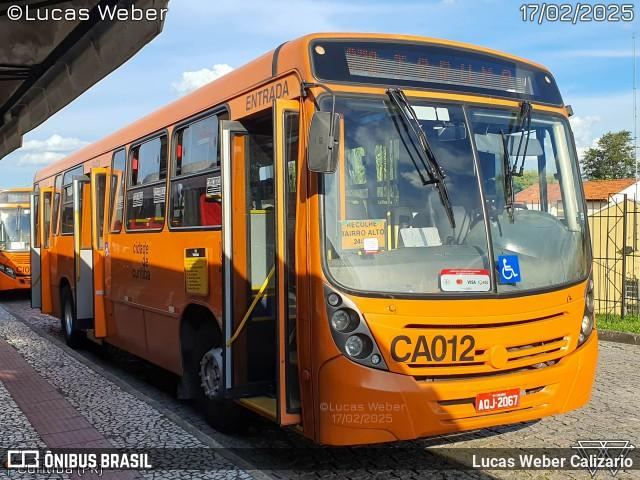TARUMA: (387, 48, 522, 92)
